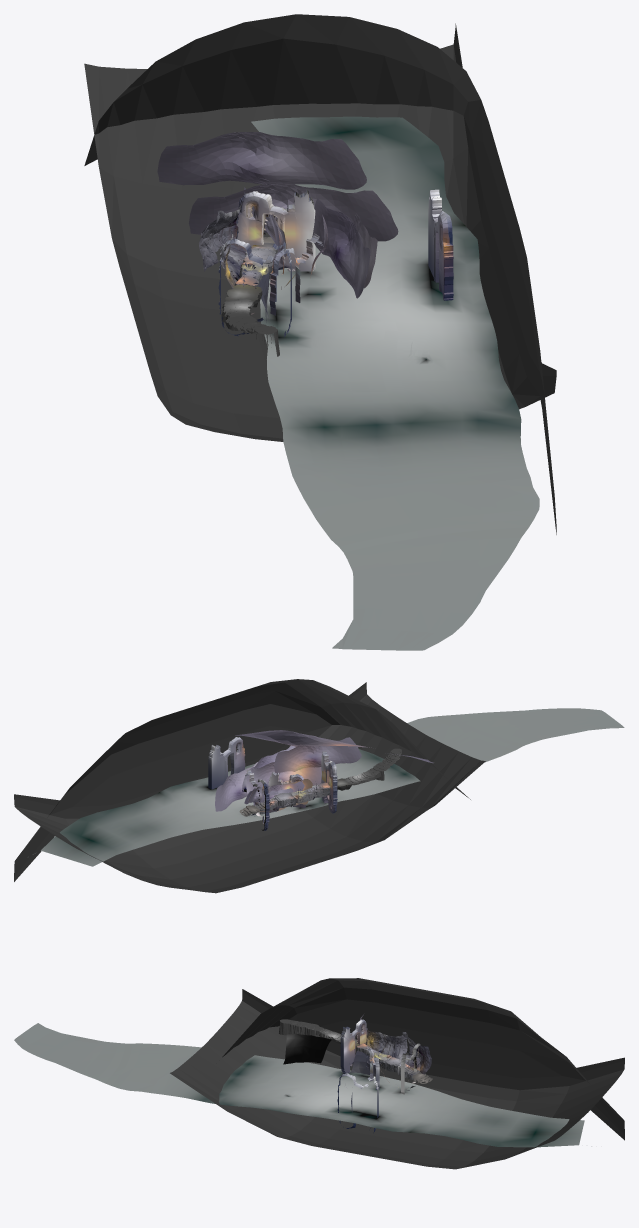
File: road1.glb
3 renders of one model, top to bottom at view 1: azimuth 30°, elevation 25°; view 2: azimuth 150°, elevation 25°; view 3: azimuth 270°, elevation 25°, orthographic. The views are drawn at different scales.
Visible parts, largest first — view 1: ailing_cliffs1_river_geo, Chardungeon_holefiller_geo, FX_Smoke_Pillar01_geo (5), FX_Smoke_Pillar01_geo (4), hellgate_chunk1_mirror_geo (2), FX_Smoke_Pillar01_geo (6), hellgate_chunk1_mirror_geo (3), hellgate_wallo_geo, hellgate_stairs2_geo, hellgate_chunk1_mirror_hi_geo, hellgate_chunk1_mirror_teeth_geo (1); view 2: Chardungeon_holefiller_geo, ailing_cliffs1_river_geo, FX_Smoke_Pillar01_geo (3), hellgate_chunk1_mirror_geo (3), FX_Smoke_Pillar01_geo (4), FX_Smoke_Pillar01_geo (2), FX_Smoke_Pillar01_geo (6), hellgate_stairs2_geo, hellgate_chunk1_mirror_teeth_geo (1), hellgate_stairs1_geo; view 3: Chardungeon_holefiller_geo, ailing_cliffs1_river_geo, hellgate_wallo_geo, CharacterDungeonGeneric_Arena_Rocks_geo (2), hellgate_chunk1_mirror_teeth_geo (1), hellgate_stairs2_geo, hellgate_stairs1_geo, CharacterDungeonGeneric_Arena_Rocks_geo (1), hellgate_chunk1_mirror_geo (3), hellgate_chunk1_mirror_geo (2).
Boxes of the visible parts, x1,y1,x2,y2 form: ailing_cliffs1_river_geo: (251, 116, 539, 650); Chardungeon_holefiller_geo: (84, 14, 556, 534); FX_Smoke_Pillar01_geo (5): (157, 132, 366, 189); FX_Smoke_Pillar01_geo (4): (189, 183, 398, 241); hellgate_chunk1_mirror_geo (2): (236, 190, 314, 286); FX_Smoke_Pillar01_geo (6): (312, 198, 370, 298); hellgate_chunk1_mirror_geo (3): (428, 189, 453, 300); hellgate_wallo_geo: (199, 191, 246, 288); hellgate_stairs2_geo: (221, 298, 279, 356); hellgate_chunk1_mirror_hi_geo: (269, 233, 323, 315); hellgate_chunk1_mirror_teeth_geo (1): (218, 238, 291, 337); Chardungeon_holefiller_geo: (14, 679, 485, 893); ailing_cliffs1_river_geo: (33, 708, 624, 866); FX_Smoke_Pillar01_geo (3): (274, 737, 361, 773); hellgate_chunk1_mirror_geo (3): (208, 737, 245, 789); FX_Smoke_Pillar01_geo (4): (235, 730, 433, 763); FX_Smoke_Pillar01_geo (2): (242, 762, 321, 792); FX_Smoke_Pillar01_geo (6): (215, 762, 257, 811); hellgate_stairs2_geo: (345, 748, 401, 785); hellgate_chunk1_mirror_teeth_geo (1): (321, 751, 337, 813); hellgate_stairs1_geo: (255, 782, 330, 814); Chardungeon_holefiller_geo: (170, 978, 624, 1169); ailing_cliffs1_river_geo: (14, 1023, 591, 1147); hellgate_wallo_geo: (364, 1029, 431, 1074); CharacterDungeonGeneric_Arena_Rocks_geo (2): (283, 1033, 331, 1064); hellgate_chunk1_mirror_teeth_geo (1): (340, 1019, 367, 1073); hellgate_stairs2_geo: (279, 1019, 341, 1041); hellgate_stairs1_geo: (356, 1043, 420, 1079); CharacterDungeonGeneric_Arena_Rocks_geo (1): (350, 1051, 381, 1076); hellgate_chunk1_mirror_geo (3): (337, 1073, 378, 1132); hellgate_chunk1_mirror_geo (2): (401, 1044, 422, 1094).
Bounding box in the file's own units: 406 × 175 × 674.
